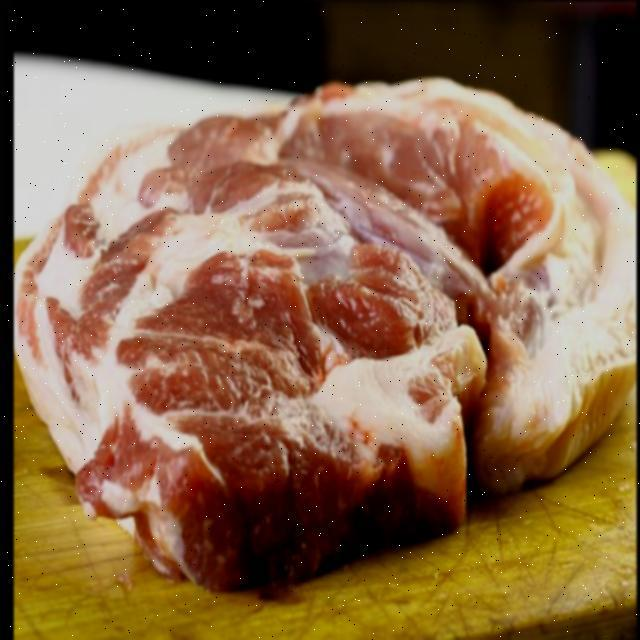pork: (21, 53, 638, 617)
